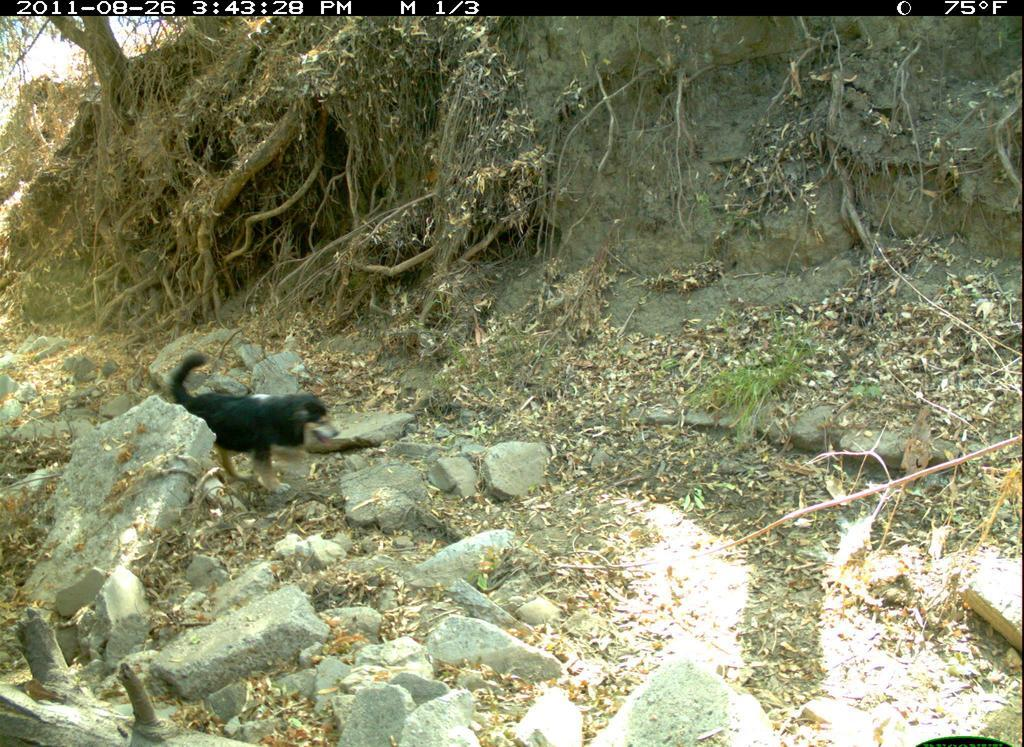dog: (149, 347, 360, 501)
